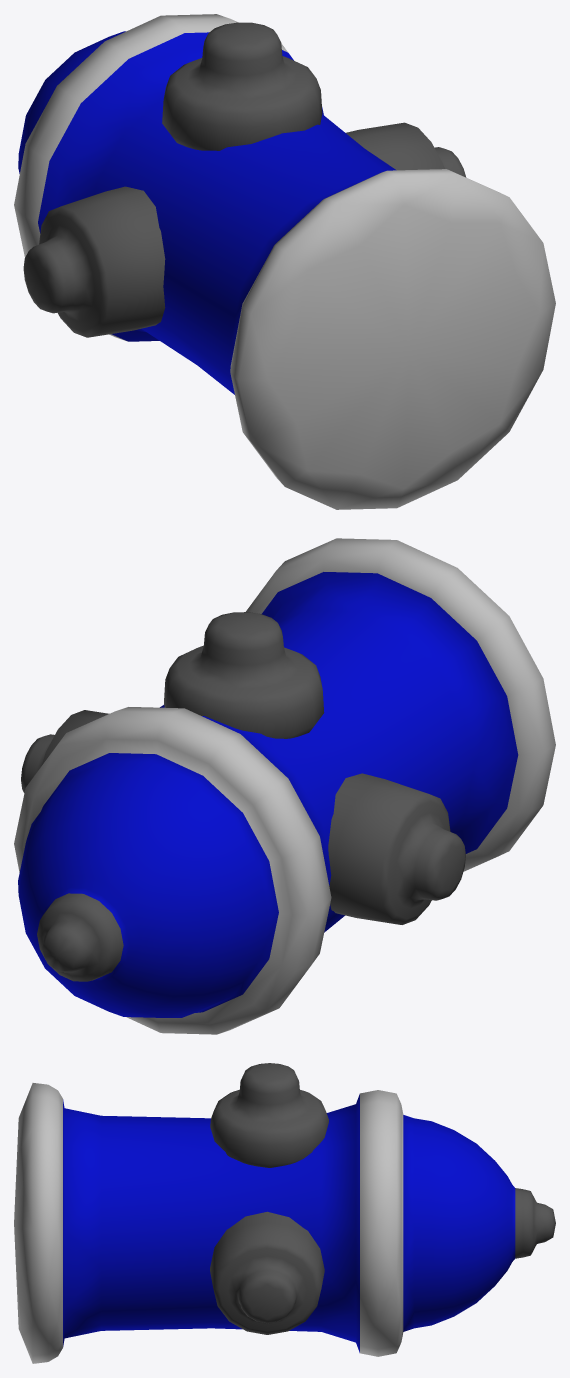
Rendered from Hydrant2.FBX.
3 views of the same model, one above another, from view 1: azimuth 30°, elevation 25°; view 2: azimuth 150°, elevation 25°; view 3: azimuth 270°, elevation 25° (orthographic). The views are drawn at different scales.
Parts seen in each view (by area): view 1: firehydrant; view 2: firehydrant; view 3: firehydrant.
Part boxes in pixels (x1,y1,x2,y2): firehydrant: (14, 14, 555, 509); firehydrant: (14, 538, 555, 1034); firehydrant: (14, 1063, 555, 1363).
Bounding box in the file's own units: 34.19 × 28.36 × 49.7.
